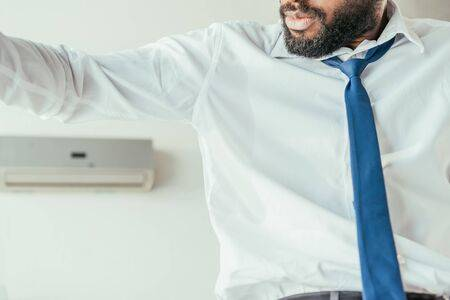F_shirt: (7, 15, 450, 294)
F_tie: (326, 58, 409, 300)
